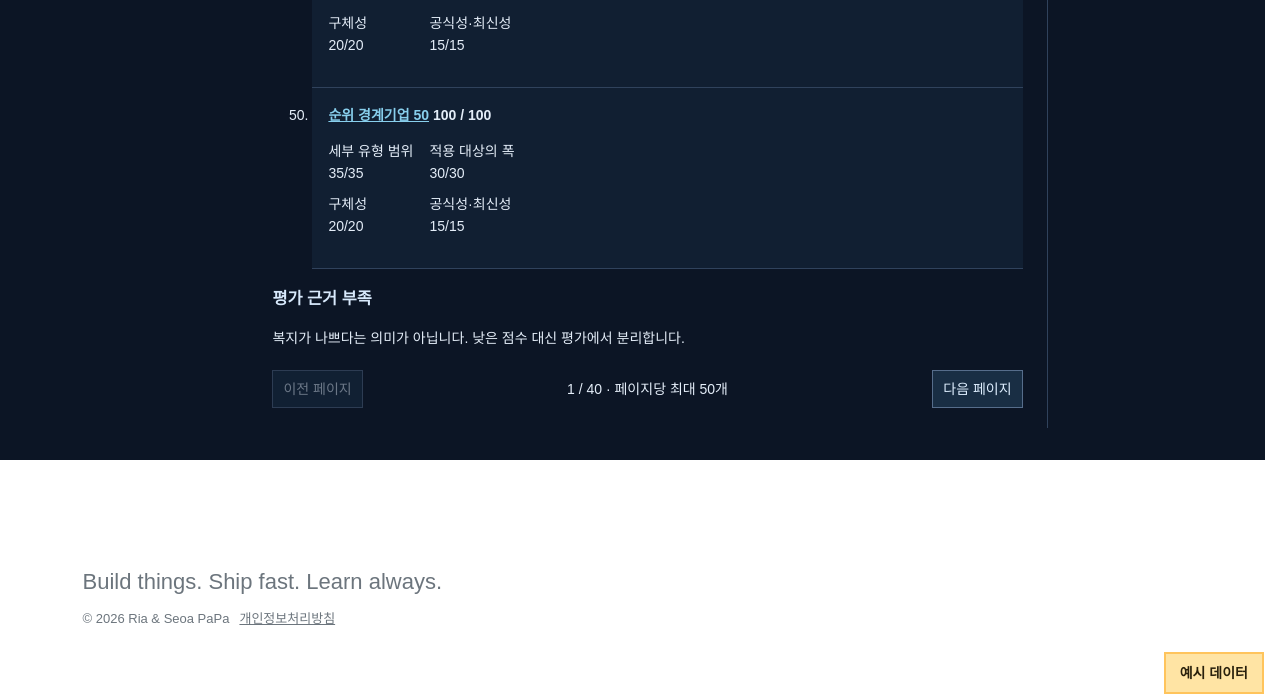
it: paginates 2,000 ranked and insufficient companies with at most 50 company rows total
(page scrolled)
Click the button "다음 페이지" at [977, 389], box [932,370,1023,408]
(page scrolled)
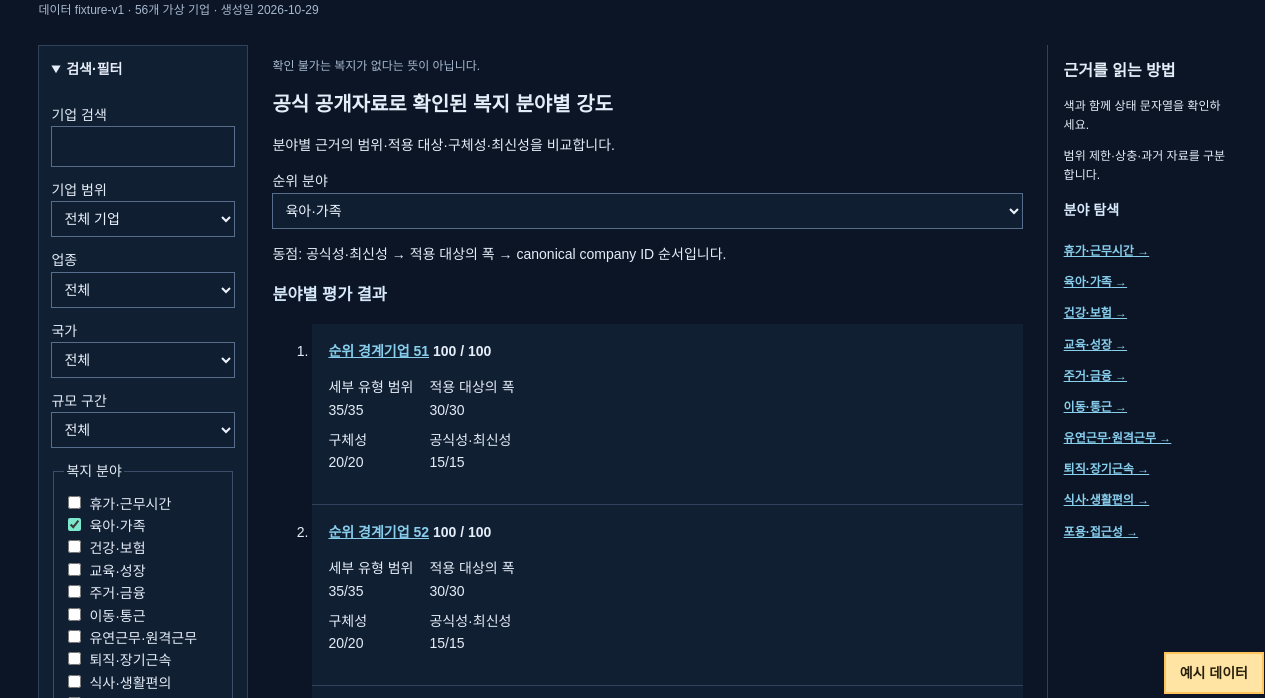
Expected: the link "순위 경계기업 51" is shown, [328,343,429,359]
